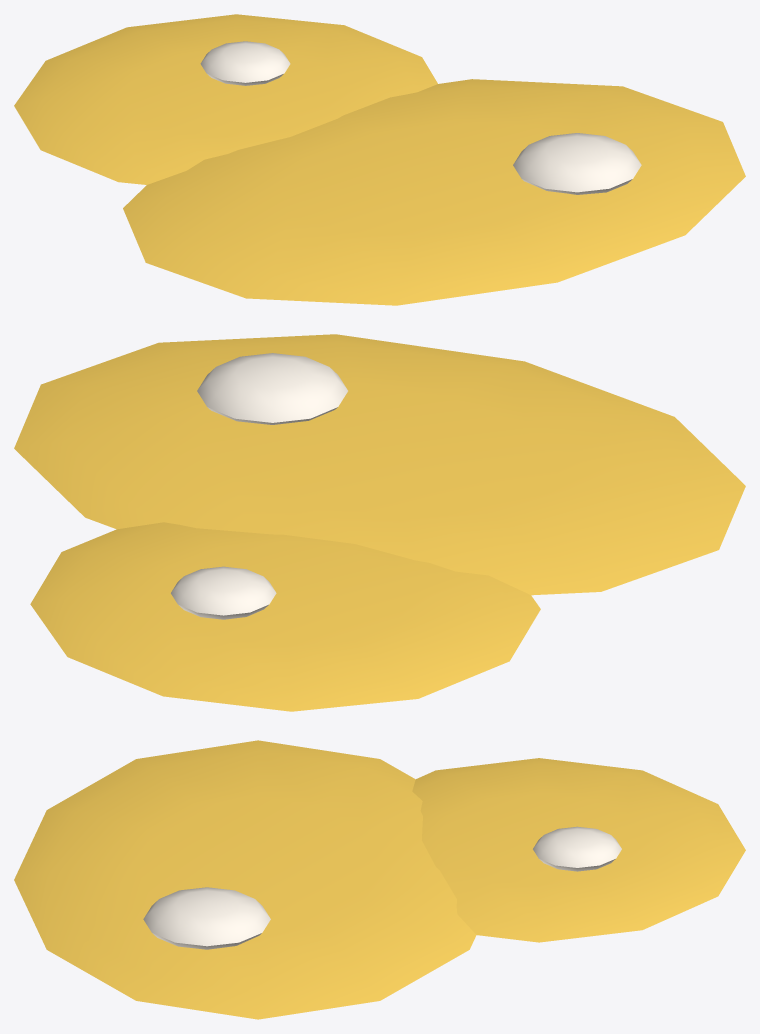
The model's file is butterfly_wing_yellow.glb.
3 renders of one model, top to bottom at view 1: azimuth 30°, elevation 25°; view 2: azimuth 150°, elevation 25°; view 3: azimuth 270°, elevation 25°, orthographic. The views are drawn at different scales.
Visible parts, largest first — view 1: butterfly_wing_yellow; view 2: butterfly_wing_yellow; view 3: butterfly_wing_yellow.
Part boxes in pixels (<box>): butterfly_wing_yellow: <box>14,14,745,305</box>; butterfly_wing_yellow: <box>14,334,745,711</box>; butterfly_wing_yellow: <box>14,740,745,1019</box>.
Size of the model in its own units: 0.1035 by 0.0087 by 0.1147.
